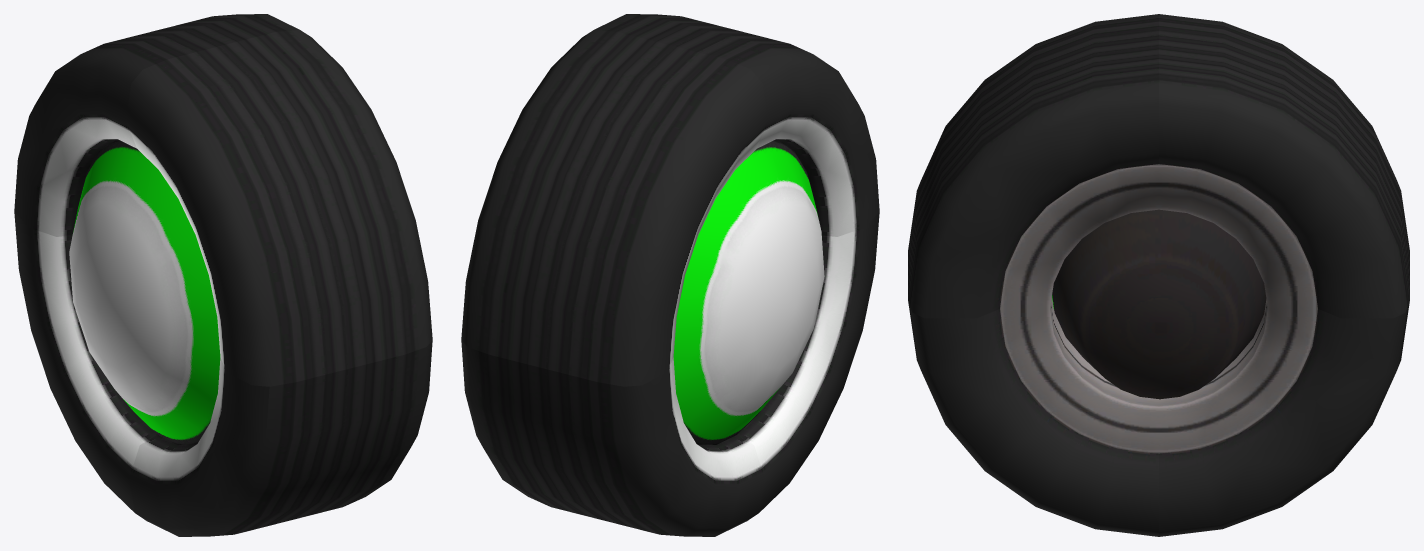
Rendered from ava_wheel.obj.
3 renders of one model, left to right at view 1: azimuth 30°, elevation 25°; view 2: azimuth 150°, elevation 25°; view 3: azimuth 270°, elevation 25°, orthographic.
Parts seen in each view (by area): view 1: wheel_Mesh_0068.003; view 2: wheel_Mesh_0068.003; view 3: wheel_Mesh_0068.003.
Boxes of the visible parts, x1,y1,x2,y2 form: wheel_Mesh_0068.003: (14, 14, 432, 536); wheel_Mesh_0068.003: (461, 14, 879, 536); wheel_Mesh_0068.003: (908, 14, 1409, 536).
Size of the model in its own units: 0.8082 by 1.5 by 1.49.
2 materials, 2 textured.
